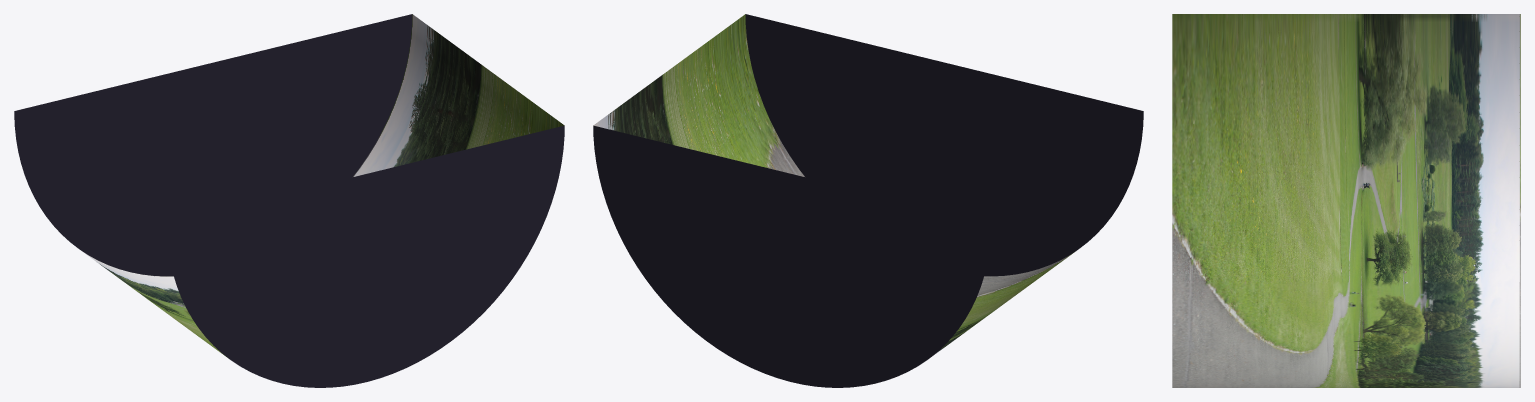
Rendered from weg.glb.
3 views of the same model, side by side, from view 1: azimuth 30°, elevation 25°; view 2: azimuth 150°, elevation 25°; view 3: azimuth 270°, elevation 25° (orthographic). The views are drawn at different scales.
Visible parts, largest first — view 1: root, Komponente#2; view 2: root, Komponente#2; view 3: Komponente#2.
Part boxes in pixels (<box>): root: <box>14,14,564,387</box>; Komponente#2: <box>82,14,564,356</box>; root: <box>593,14,1143,387</box>; Komponente#2: <box>593,14,1075,356</box>; Komponente#2: <box>1172,14,1520,387</box>.
Size of the model in its own units: 4.44 by 2.22 by 2.94.
3 materials, 1 textured.
